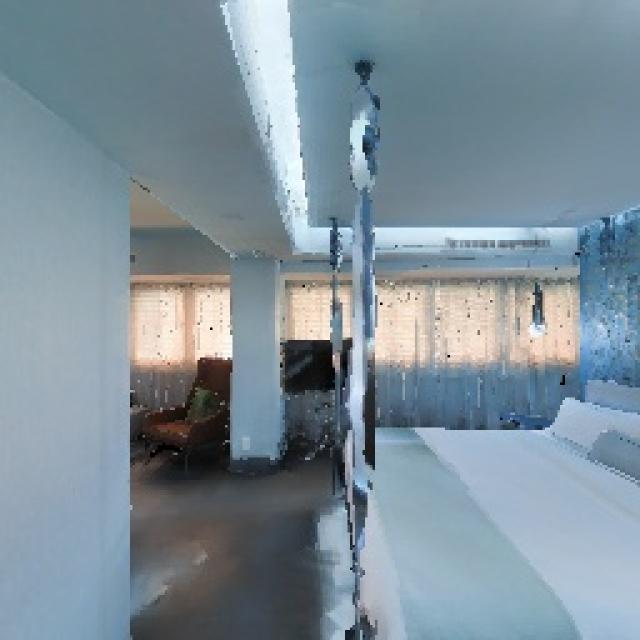bed: (324, 391, 640, 640)
chair: (134, 346, 241, 482)
